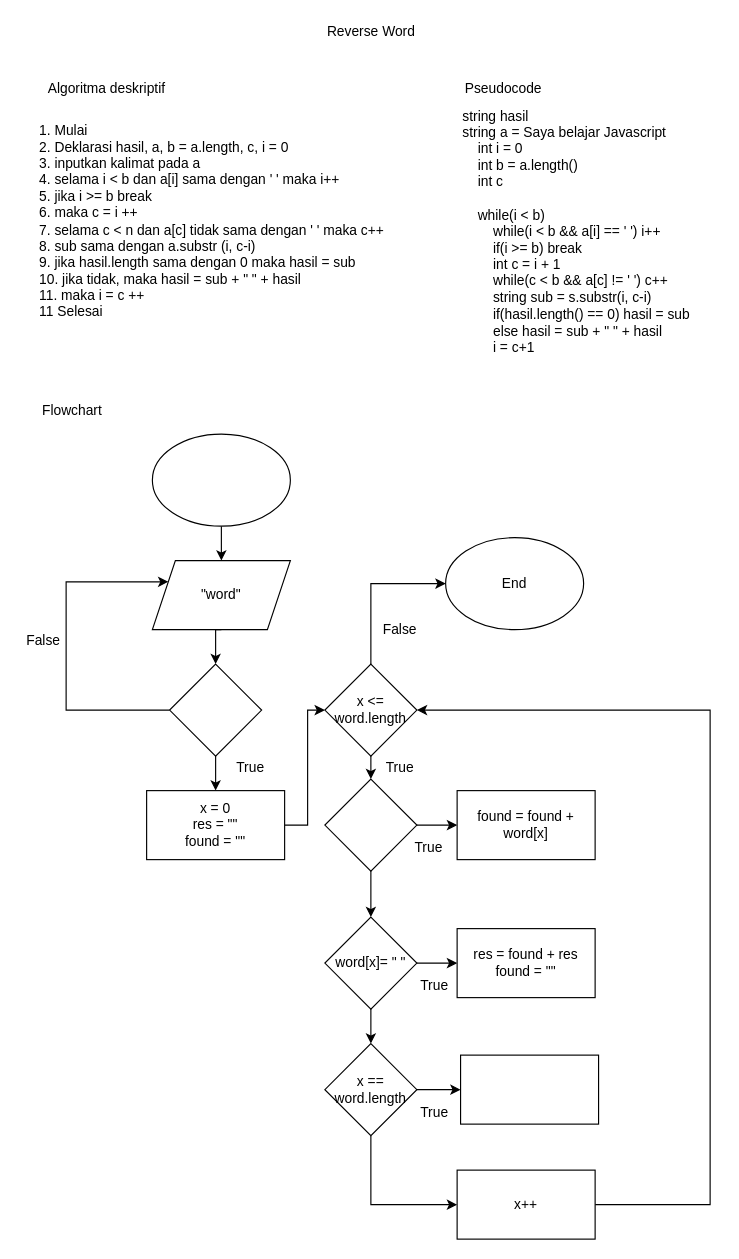
This 739x1259 diagram has some shape labels left out. The shapes that lost their labels are listed below. From the top down, each one's box as (x1, y1, x2, y2) in pixels, then its label:
(151, 433, 290, 526): Start
(168, 663, 262, 756): word == String
(324, 778, 417, 871): word[x]
(459, 1054, 599, 1124): res = found + " " + res found = ""
